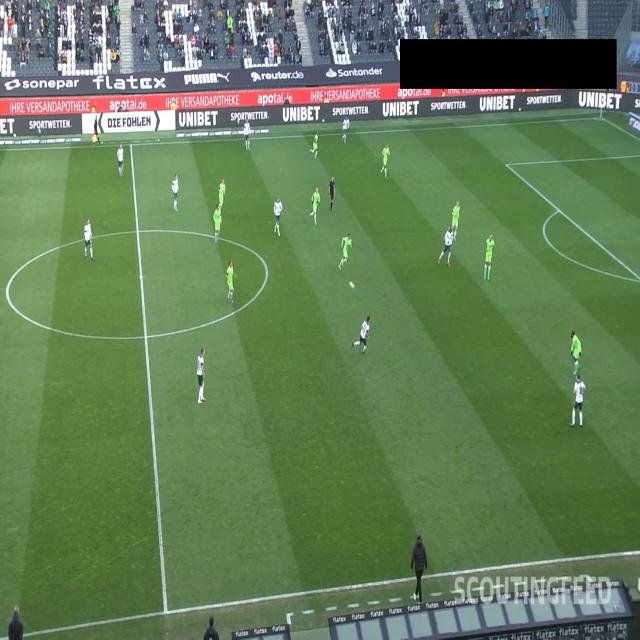ball: (349, 280, 355, 290)
